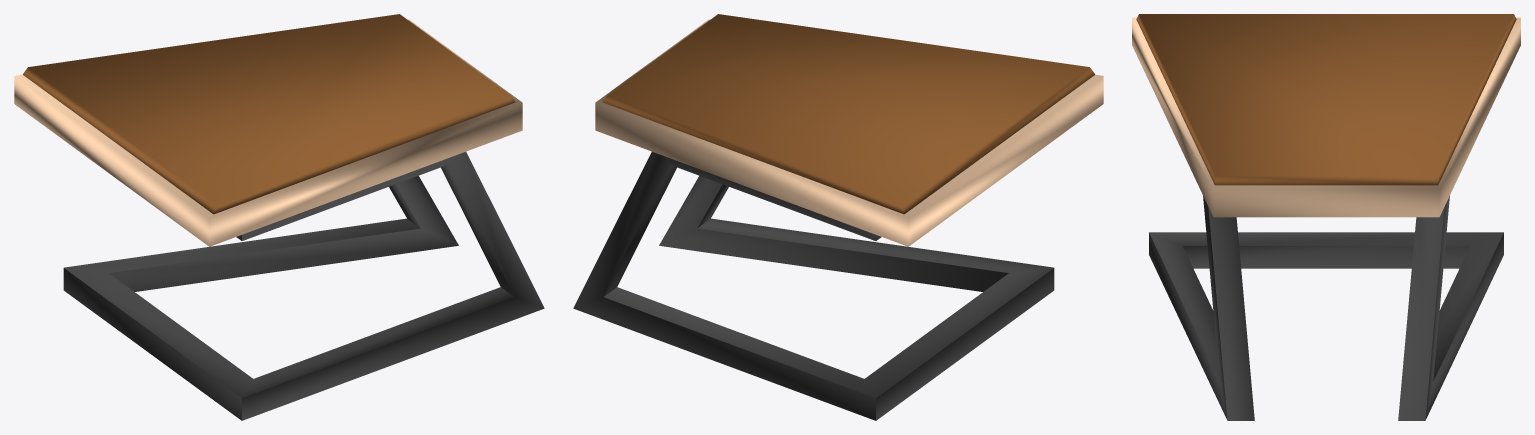
Rendered from Mdl.Chair.fbx.
3 renders of one model, left to right at view 1: azimuth 30°, elevation 25°; view 2: azimuth 150°, elevation 25°; view 3: azimuth 270°, elevation 25°, orthographic.
Visible parts, largest first — view 1: Chair; view 2: Chair; view 3: Chair.
Part boxes in pixels (left/top/right/bottom): Chair: left=14, top=14, right=544, bottom=420; Chair: left=573, top=14, right=1103, bottom=420; Chair: left=1132, top=14, right=1520, bottom=420.
Bounding box in the file's own units: 58.04 × 32.85 × 51.22.
1 material, 1 textured.
